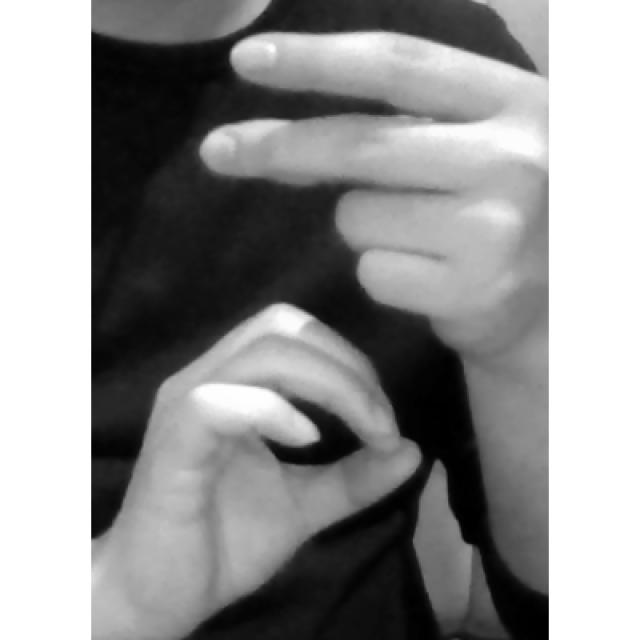O--: (103, 30, 548, 640)
